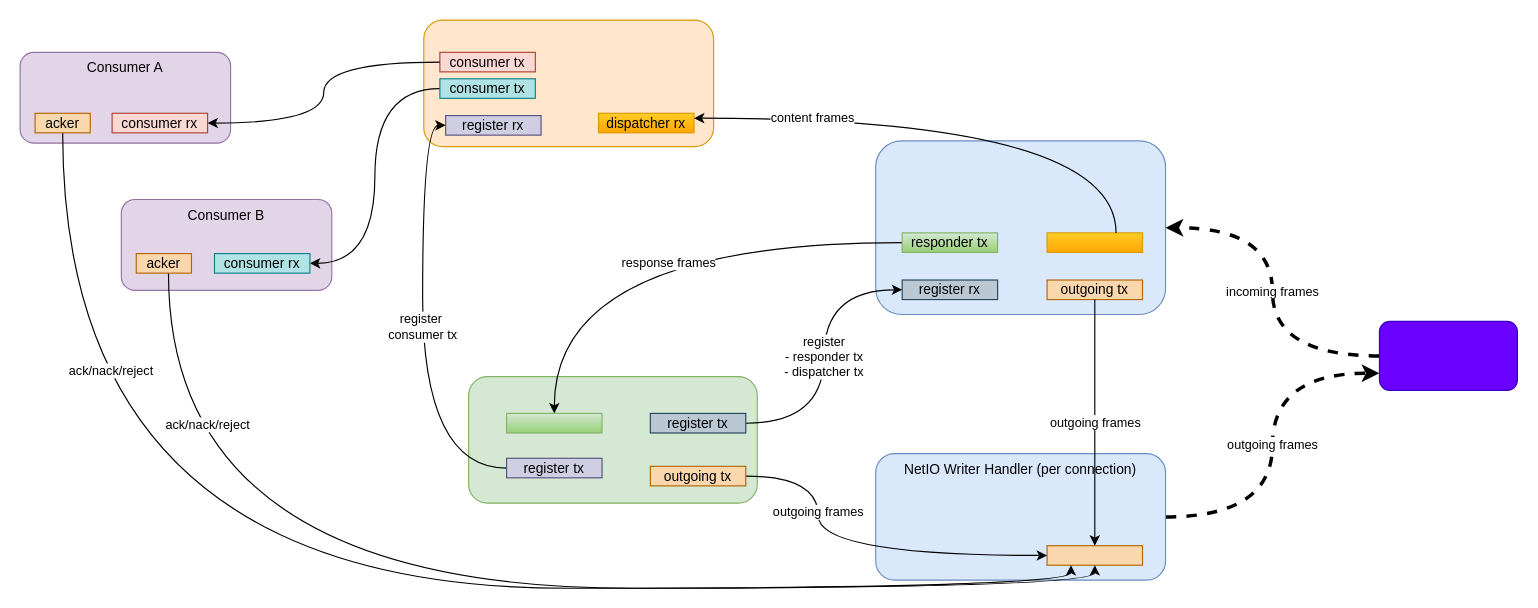
The diagram is 1538 pixels wide and 608 high, and some of its shapes have lost their labels. The shapes that lost their labels are listed below. From the top down, each one's box as (x1, y1, x2, y2) in pixels, then its label:
(423, 19, 714, 147): Consumer Dispatcher (per channel)
(875, 140, 1166, 315): NetIO Reader Handler (per connection)
(1046, 232, 1143, 252): dispatcher tx
(1378, 320, 1517, 390): RabbitMQ Server
(505, 412, 602, 433): incoming rx
(467, 375, 757, 503): AMQ Channel
(1046, 545, 1143, 565): outgoing rx
